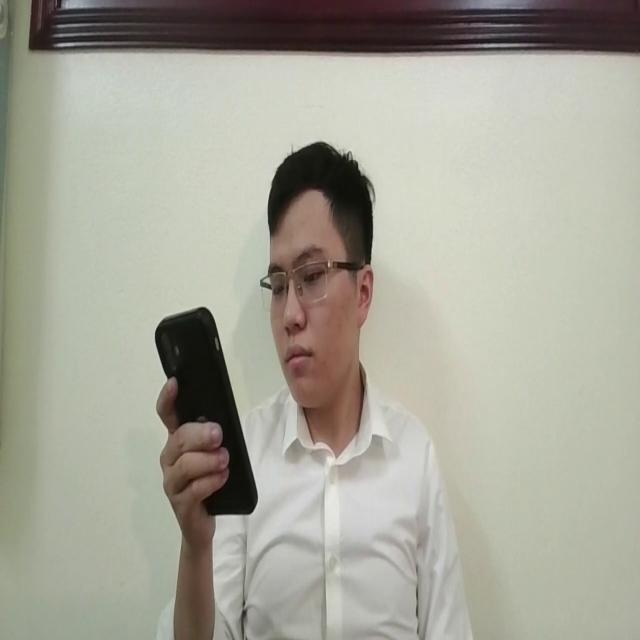phone: (153, 301, 264, 525)
student: (148, 132, 474, 640)
